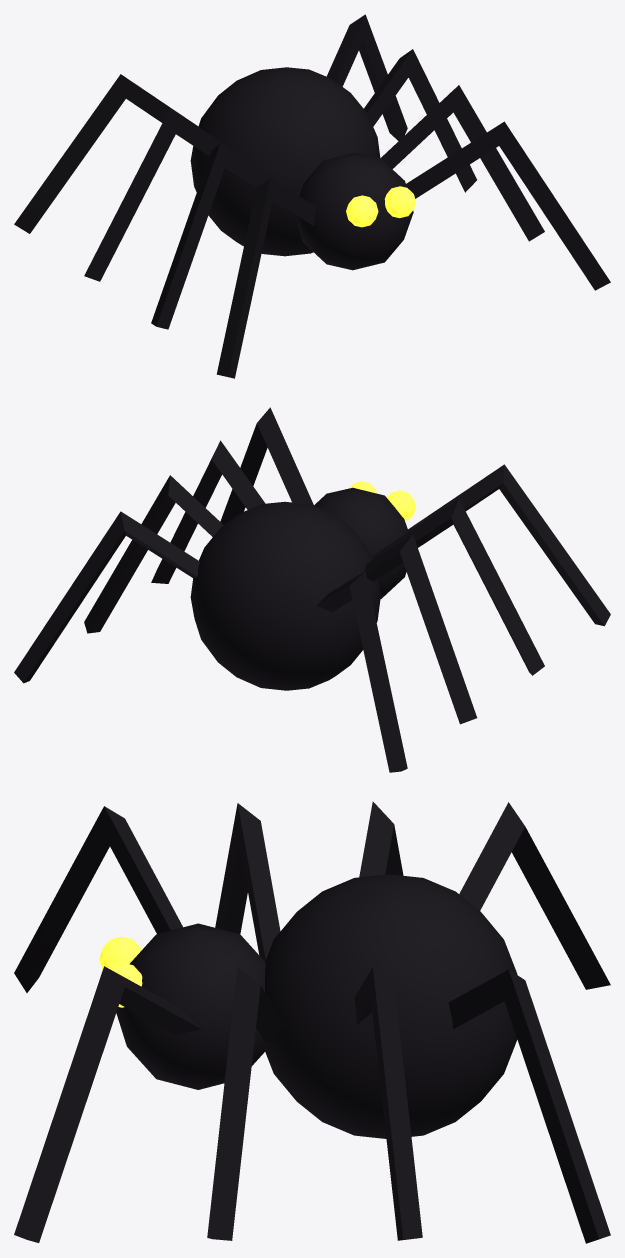
Rendered from spider.glb.
3 views of the same model, one above another, from view 1: azimuth 30°, elevation 25°; view 2: azimuth 150°, elevation 25°; view 3: azimuth 270°, elevation 25° (orthographic). The views are drawn at different scales.
Parts seen in each view (by area): view 1: spider; view 2: spider; view 3: spider.
Boxes of the visible parts, bbox=[...] form: spider: bbox=[14, 14, 610, 378]; spider: bbox=[14, 407, 610, 772]; spider: bbox=[14, 801, 610, 1243].
Size of the model in its own units: 0.1671 by 0.0705 by 0.1566.
